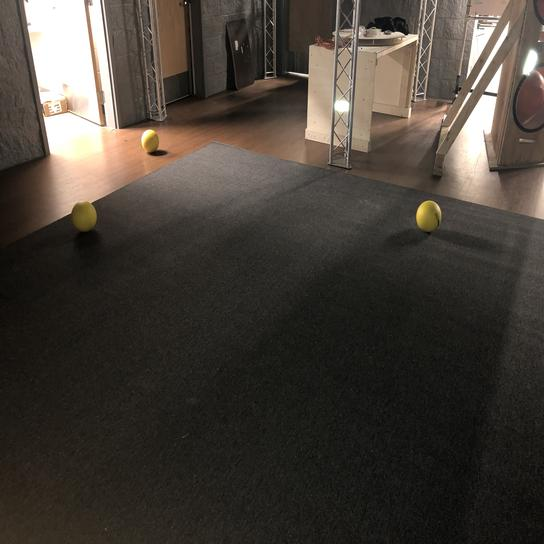ball: (67, 198, 99, 233), (414, 198, 443, 235), (138, 125, 159, 156)
